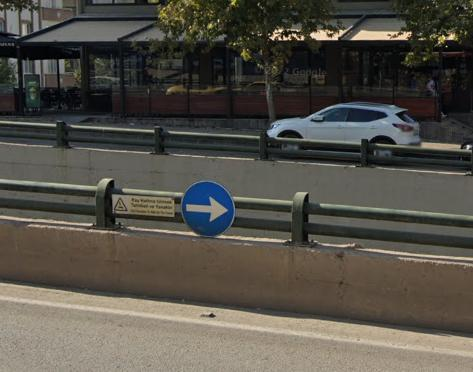turnright: (183, 183, 235, 235)
